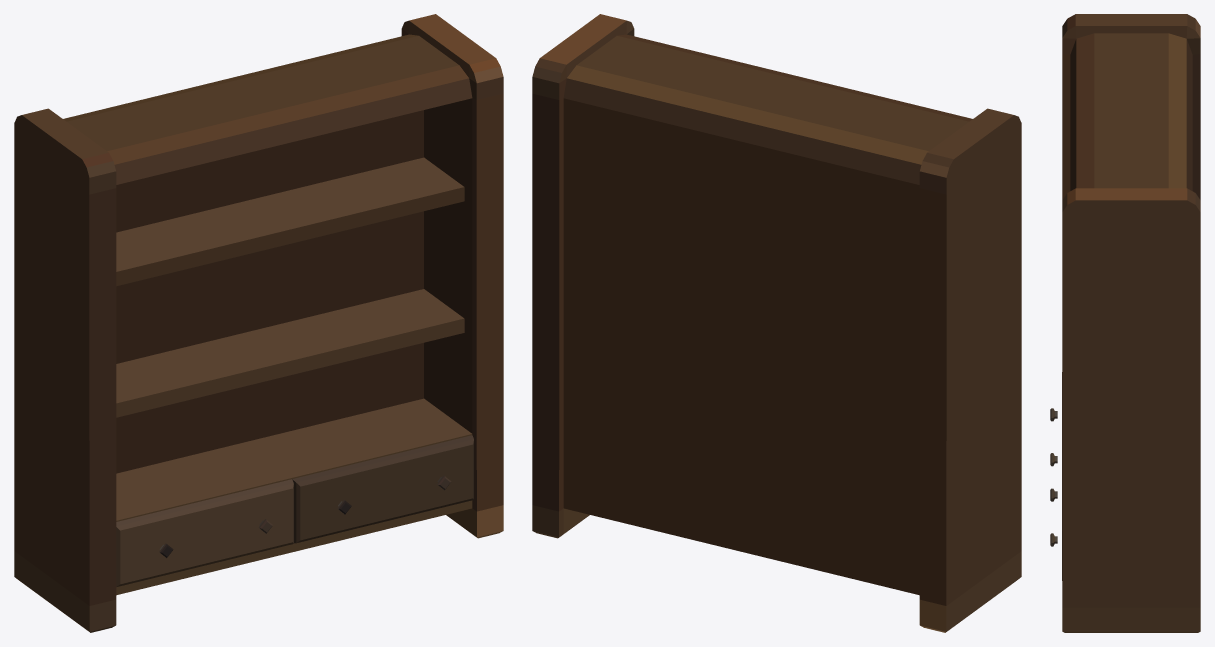
The model's file is Furniture_ShelfB.fbx.
The picture shows the model from 3 angles, left to right: view 1: azimuth 30°, elevation 25°; view 2: azimuth 150°, elevation 25°; view 3: azimuth 270°, elevation 25°; orthographic projection. The views are drawn at different scales.
Visible parts, largest first — view 1: Furniture_ShelfB; view 2: Furniture_ShelfB; view 3: Furniture_ShelfB.
Part boxes in pixels (left/top/right/bottom): Furniture_ShelfB: left=14, top=14, right=503, bottom=632; Furniture_ShelfB: left=532, top=14, right=1021, bottom=632; Furniture_ShelfB: left=1050, top=14, right=1200, bottom=632.
Size of the model in its own units: 151 by 164 by 51.6.
